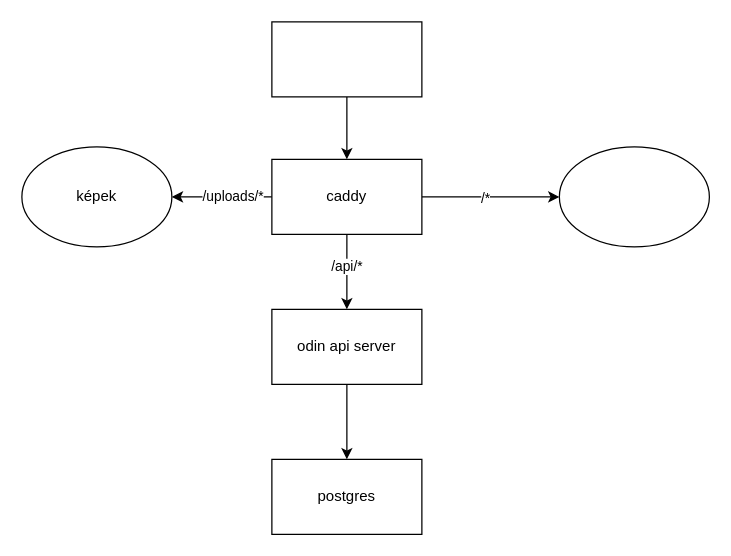
Some shapes in this 731 by 556 pixel diagram are drawn without their labels. The centre of each missing label's shape, as x and y in pixels:
"frontend fileok" goes at (633,196).
"kérés" goes at (346,59).
